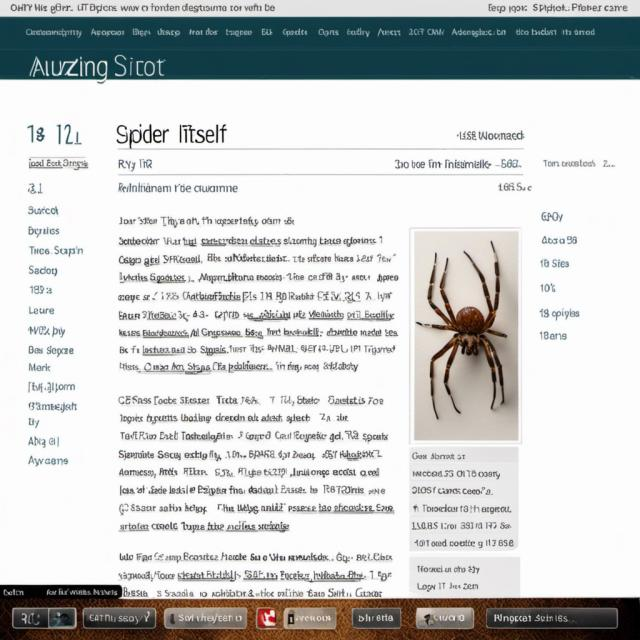spider: (416, 246, 518, 415)
